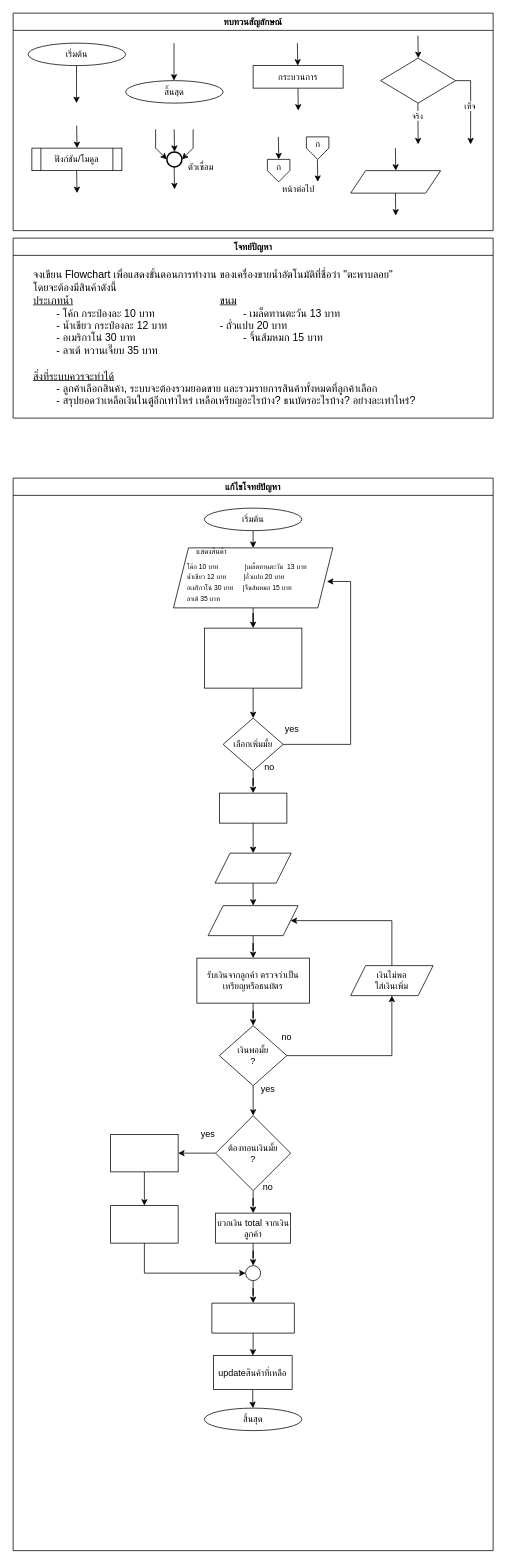
The diagram is 506 pixels wide and 1564 high, and some of its shapes have lost their labels. Here are the shapes that lost their labels. From the top down, the centre of each, then its label:
the point at 418,80: ประโยคเงื่อนไข
the point at 395,181: แสดงผล/รับค่า
the point at 253,657: total = เงินในตู้ 10 = 10 | 20 = 10 5 = 10 | 50 = 10 2 = 10 | 100 = 10 1 = 10
the point at 253,807: sum = (sum)p
the point at 252,867: len,sum
the point at 252,920: รับเงินลูกค้า
the point at 144,1153: ลบเงิน total ด้วยจำนวนที่ต้องทอน
the point at 144,1224: บวกเงินที่เหลือเข้า total
the point at 252,1317: updateยอดเงิน ที่เหลือ
